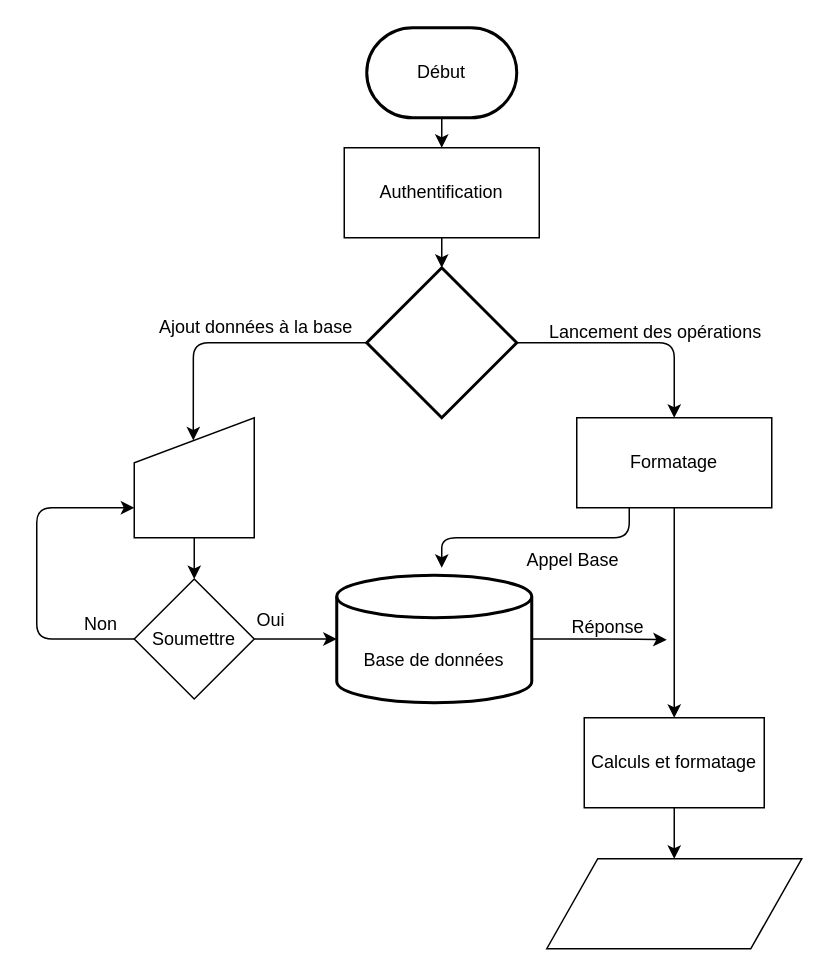
The diagram is 828 pixels wide and 975 high, and some of its shapes have lost their labels. The shapes that lost their labels are listed below. From the top down, each one's centre as x and y in pixels, then its label:
point 441,342: Choix Opération
point 193,477: Saisie données
point 673,903: Génération du résultat
